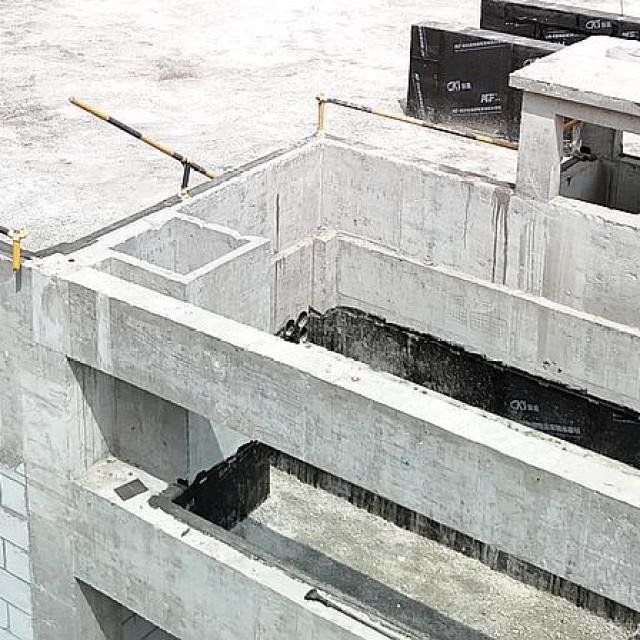edge_guardrail: (70, 97, 214, 192), (317, 94, 519, 152), (0, 224, 23, 270)
